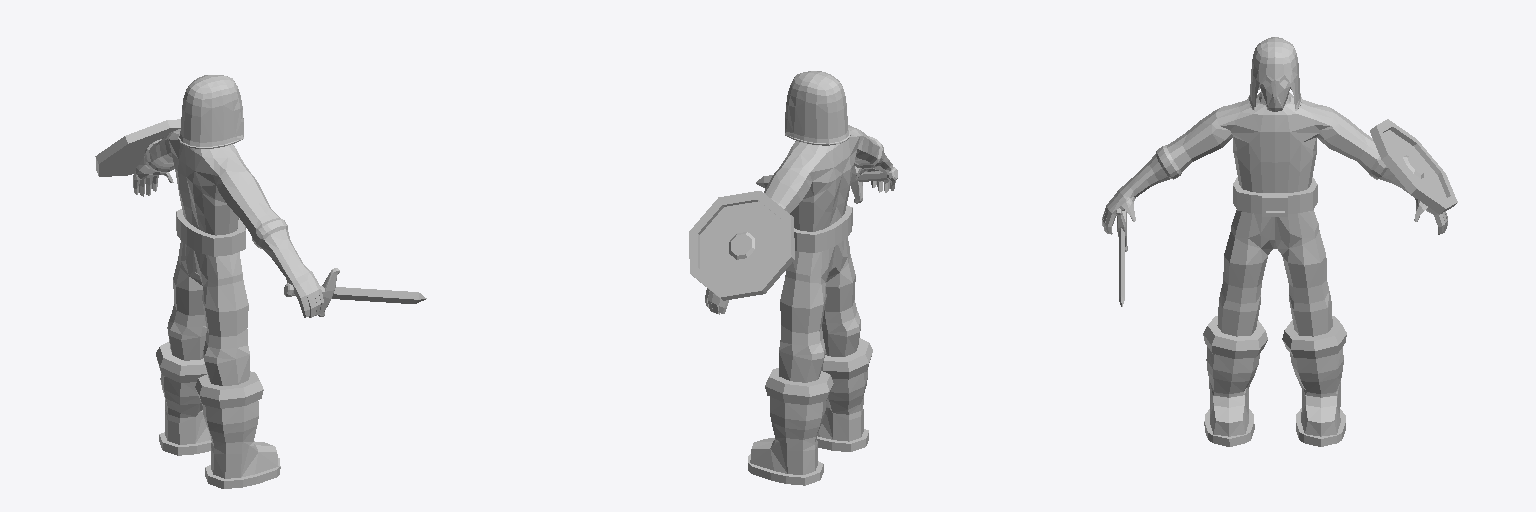
File: PiezaBlanca_Ok.obj
3 views of the same model, side by side, from view 1: azimuth 30°, elevation 25°; view 2: azimuth 150°, elevation 25°; view 3: azimuth 270°, elevation 25° (orthographic).
Visible parts, largest first — view 1: Vikingo; view 2: Vikingo; view 3: Vikingo.
Boxes of the visible parts, x1=… form: Vikingo: x1=95, y1=75, x2=426, y2=488; Vikingo: x1=689, y1=71, x2=897, y2=485; Vikingo: x1=1102, y1=37, x2=1457, y2=446.
Bounding box in the file's own units: 3.52 × 7.01 × 5.89.